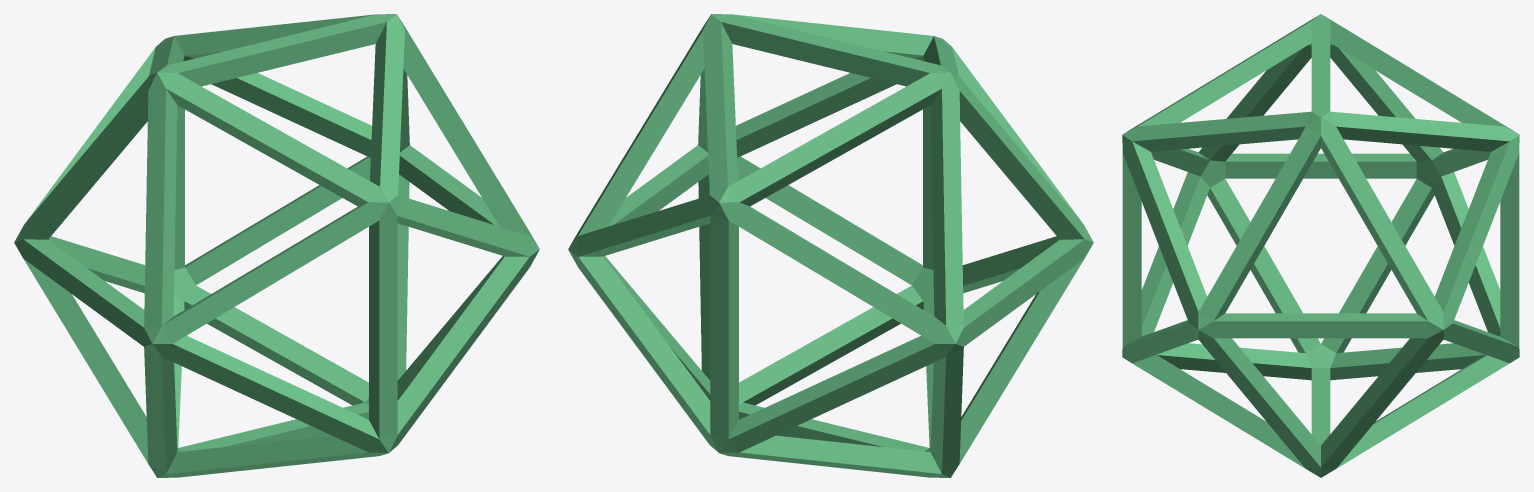
Rendered from ICOSA_01.fbx.
3 renders of one model, left to right at view 1: azimuth 30°, elevation 25°; view 2: azimuth 150°, elevation 25°; view 3: azimuth 270°, elevation 25°, orthographic. The views are drawn at different scales.
Visible parts, largest first — view 1: ICOSA_FINAL; view 2: ICOSA_FINAL; view 3: ICOSA_FINAL.
Part boxes in pixels (bbox=[...]): ICOSA_FINAL: bbox=[14, 14, 539, 477]; ICOSA_FINAL: bbox=[568, 14, 1093, 477]; ICOSA_FINAL: bbox=[1122, 14, 1519, 477].
Size of the model in its own units: 0.0293 by 0.0293 by 0.0293.
